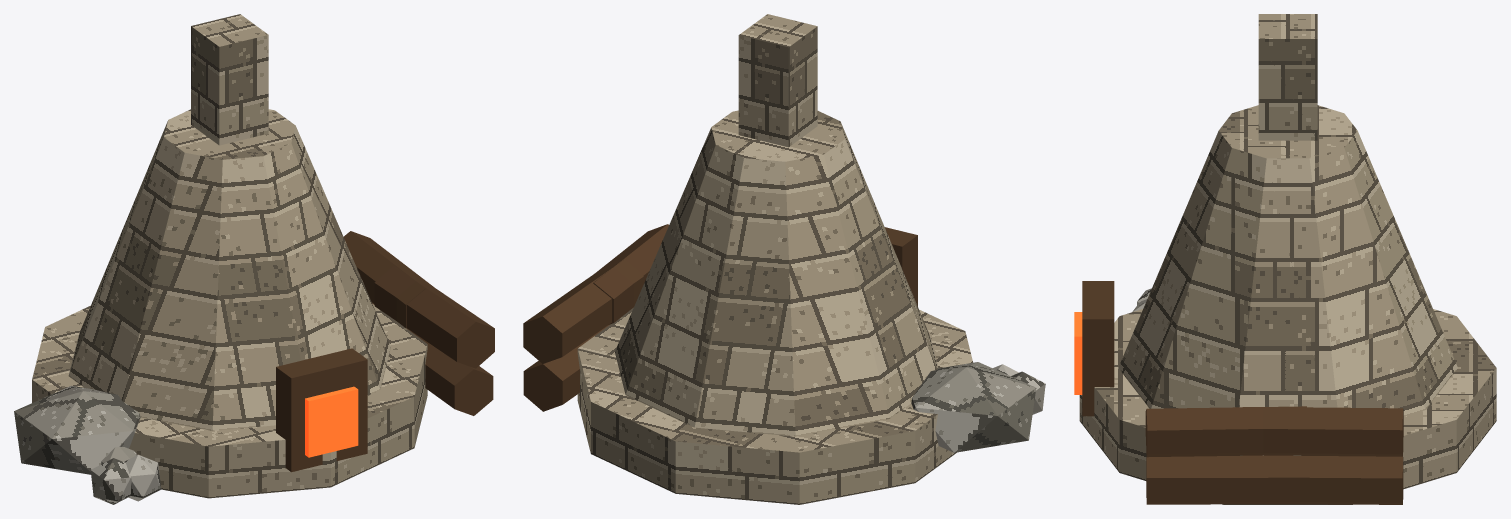
The model's file is charcoal_kiln_t1.glb.
3 renders of one model, left to right at view 1: azimuth 30°, elevation 25°; view 2: azimuth 150°, elevation 25°; view 3: azimuth 270°, elevation 25°, orthographic. The views are drawn at different scales.
Parts seen in each view (by area): view 1: kiln_dome, kiln_base, chimney, charcoal_heap, stoke_door, stack_log_2, ember_glow, stack_log_0, stack_log_3, charcoal_lump_2, charcoal_lump_0; view 2: kiln_dome, kiln_base, chimney, charcoal_heap, stack_log_3, stack_log_2, stack_log_1, stoke_door; view 3: kiln_dome, kiln_base, chimney, stack_log_0, stack_log_3, stack_log_2, stack_log_1, stoke_door, ember_glow.
Boxes of the visible parts, x1,y1,x2,y2 form: kiln_dome: [68, 109, 390, 430]; kiln_base: [32, 304, 427, 498]; chimney: [191, 14, 268, 145]; charcoal_heap: [14, 385, 140, 474]; stoke_door: [276, 348, 367, 472]; stack_log_2: [374, 266, 494, 368]; ember_glow: [305, 386, 358, 457]; stack_log_0: [422, 339, 493, 415]; stack_log_3: [344, 231, 434, 328]; charcoal_lump_2: [90, 458, 131, 504]; charcoal_lump_0: [124, 454, 161, 501]; kiln_dome: [615, 110, 938, 436]; kiln_base: [577, 307, 972, 504]; chimney: [738, 14, 817, 147]; charcoal_heap: [911, 362, 1036, 452]; stack_log_3: [523, 259, 643, 363]; stack_log_2: [593, 224, 668, 324]; stack_log_1: [523, 324, 609, 411]; stoke_door: [885, 227, 917, 306]; kiln_dome: [1118, 105, 1457, 416]; kiln_base: [1079, 309, 1496, 504]; chimney: [1258, 14, 1317, 140]; stack_log_0: [1146, 456, 1299, 504]; stack_log_3: [1243, 407, 1403, 456]; stack_log_2: [1145, 406, 1306, 457]; stack_log_1: [1243, 455, 1403, 504]; stoke_door: [1082, 281, 1114, 416]; ember_glow: [1074, 312, 1082, 394].
Size of what is drawn, in the model's own units: 1.89 by 1.64 by 1.58.
4 materials, 2 textured.
